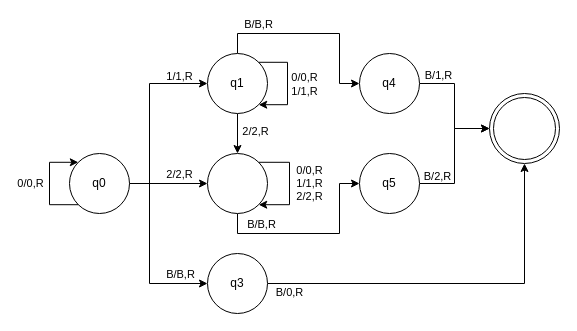
This 577x331 diagram has some shape labels left out. Here are the shapes that lost their labels. From the top down, the box of each, then its label:
(488, 92, 560, 164): q_accept
(206, 152, 268, 214): q2
